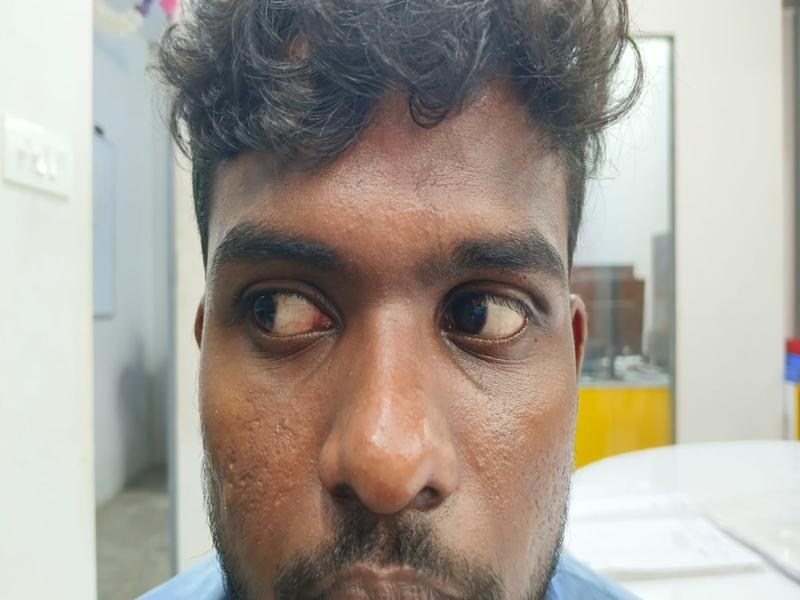EYE RIGHT: (453, 294, 532, 345), (246, 289, 325, 336)
